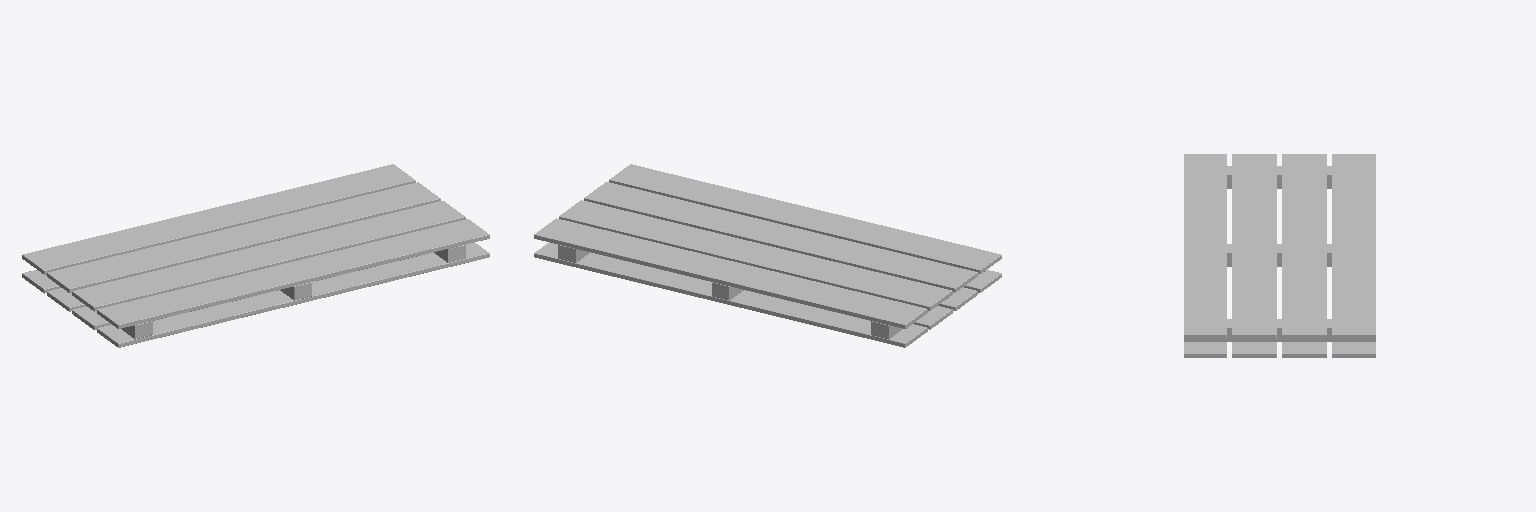
The model's file is pallet2.obj.
The picture shows the model from 3 angles: view 1: azimuth 30°, elevation 25°; view 2: azimuth 150°, elevation 25°; view 3: azimuth 270°, elevation 25°; orthographic projection.
Parts seen in each view (by area): view 1: pallet2; view 2: pallet2; view 3: pallet2.
Boxes of the visible parts, <box> form: pallet2: <box>22,164,489,347</box>; pallet2: <box>534,164,1001,347</box>; pallet2: <box>1184,154,1375,357</box>.
Bounding box in the file's own units: 1.5 × 0.0887 × 0.6732.